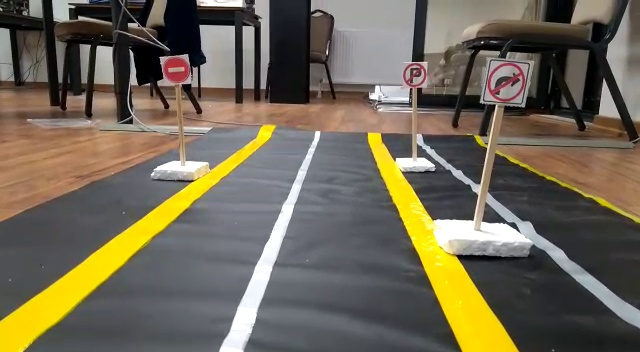girisi_olmayan_yol: (159, 54, 191, 84)
park_yapilmaz: (401, 59, 425, 89)
saga_donulmez: (485, 59, 529, 105)
